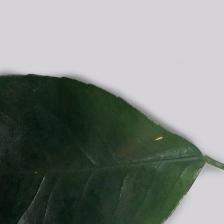healthy: (2, 80, 224, 224)
